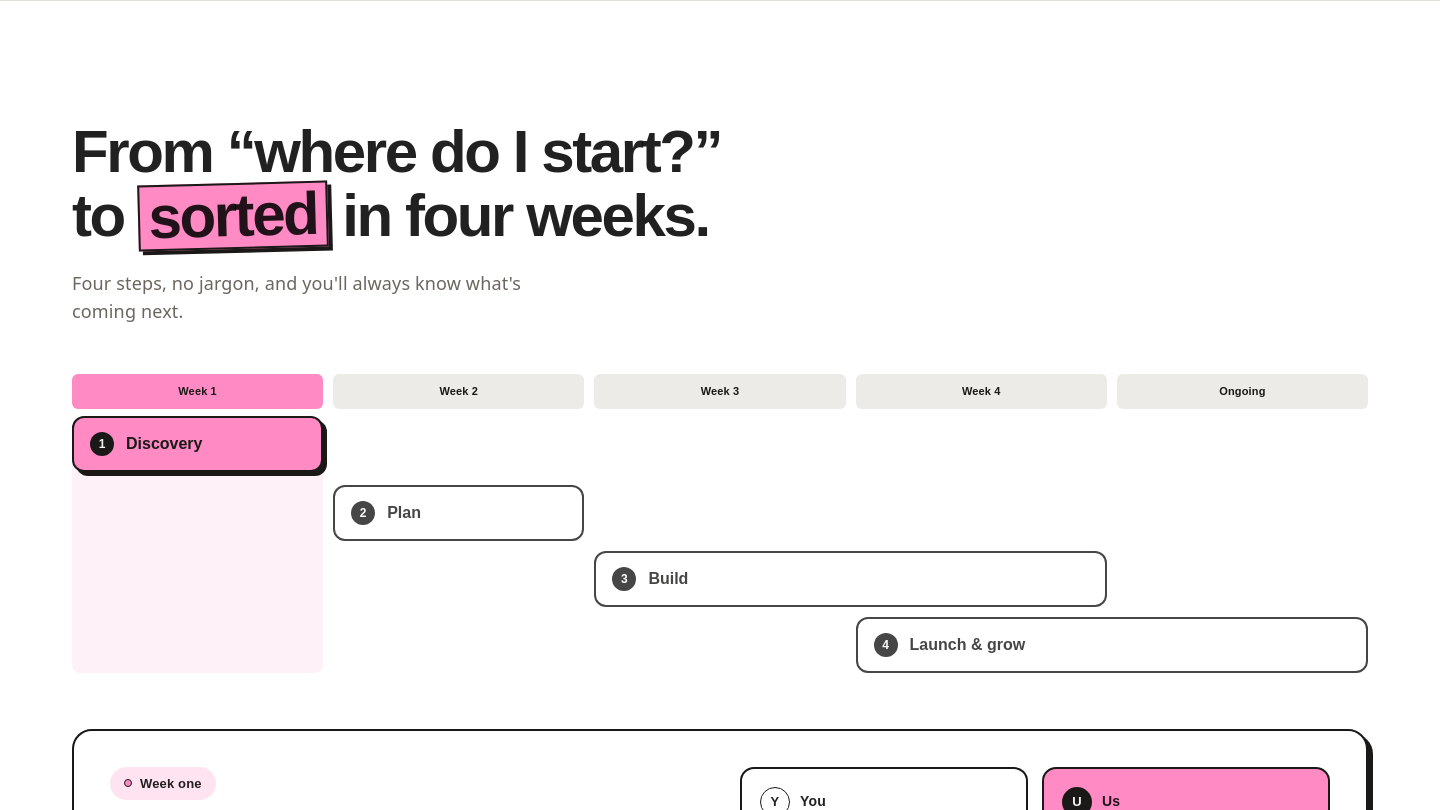
Scenario: Process › updates the selected process step
The width and height of the screenshot is (1440, 810).
Click the button "2 Plan". click: click(459, 513)
box: 333,485 -> 584,541
(page scrolled)
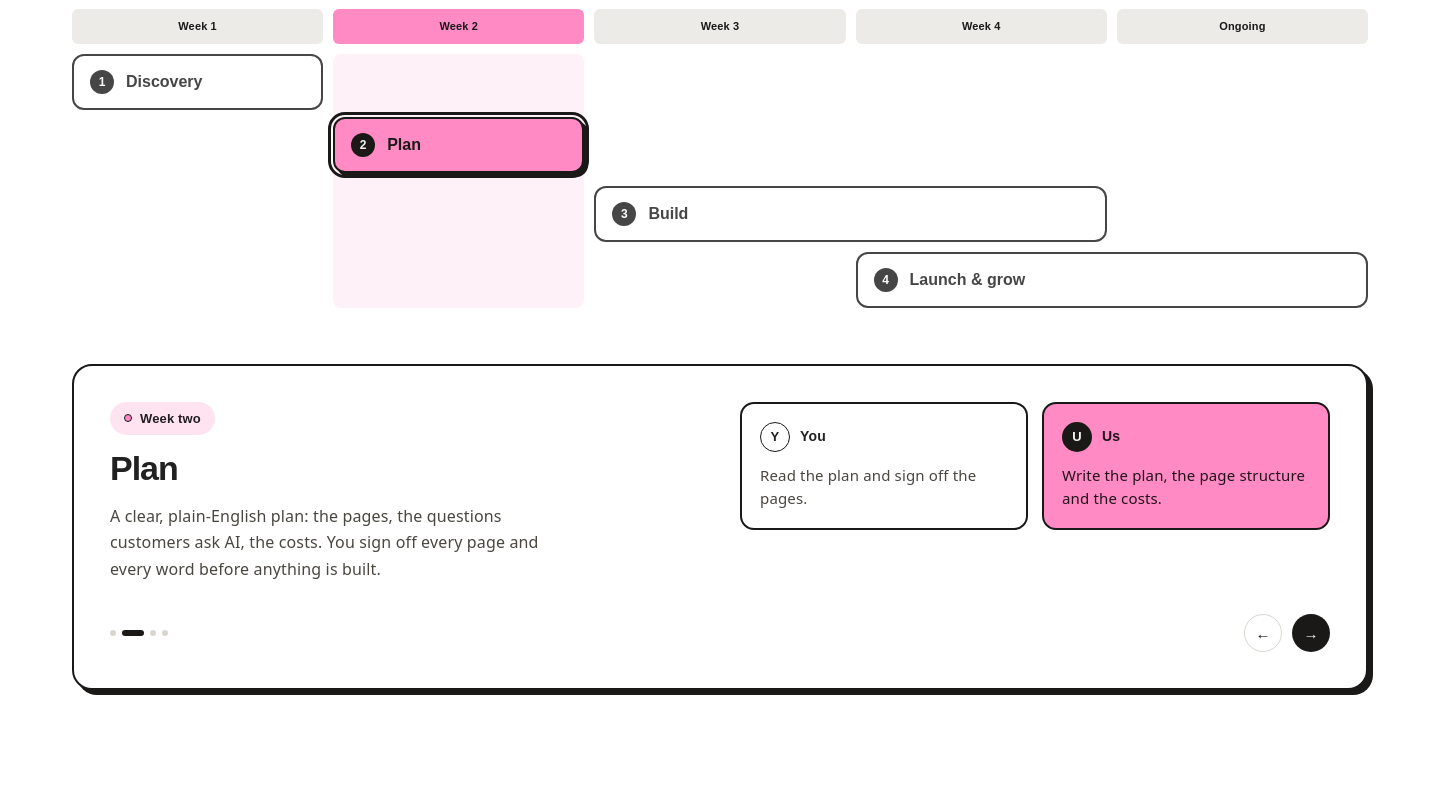
Now the heading "Plan" is shown, box 110,449 -> 178,487
